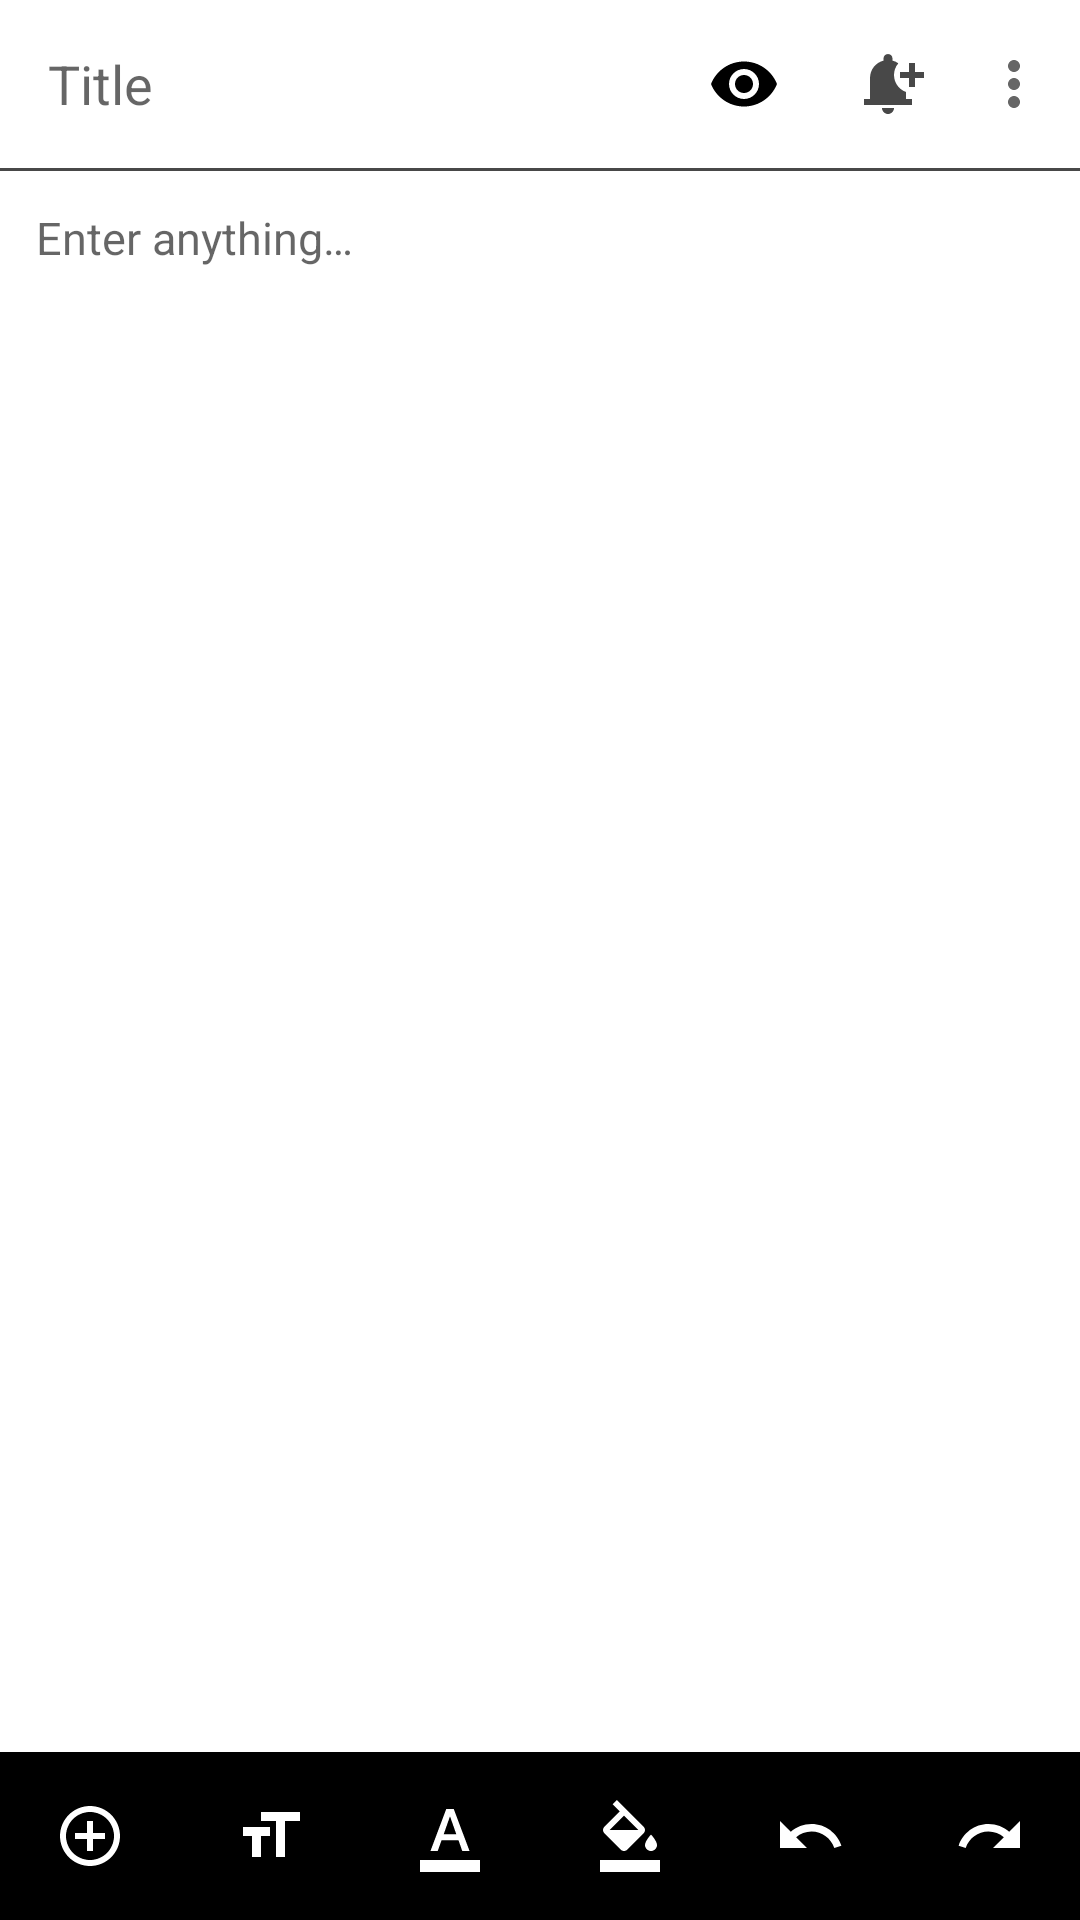

Where icons sit on this 1080 × 1920 app screen, as (x1, y1, x2, y2):
Add a Content: (60, 1806, 120, 1866)
Redo: (958, 1821, 1020, 1848)
Text color: (420, 1809, 480, 1872)
Text style: (243, 1812, 300, 1857)
Undo: (780, 1821, 842, 1848)
